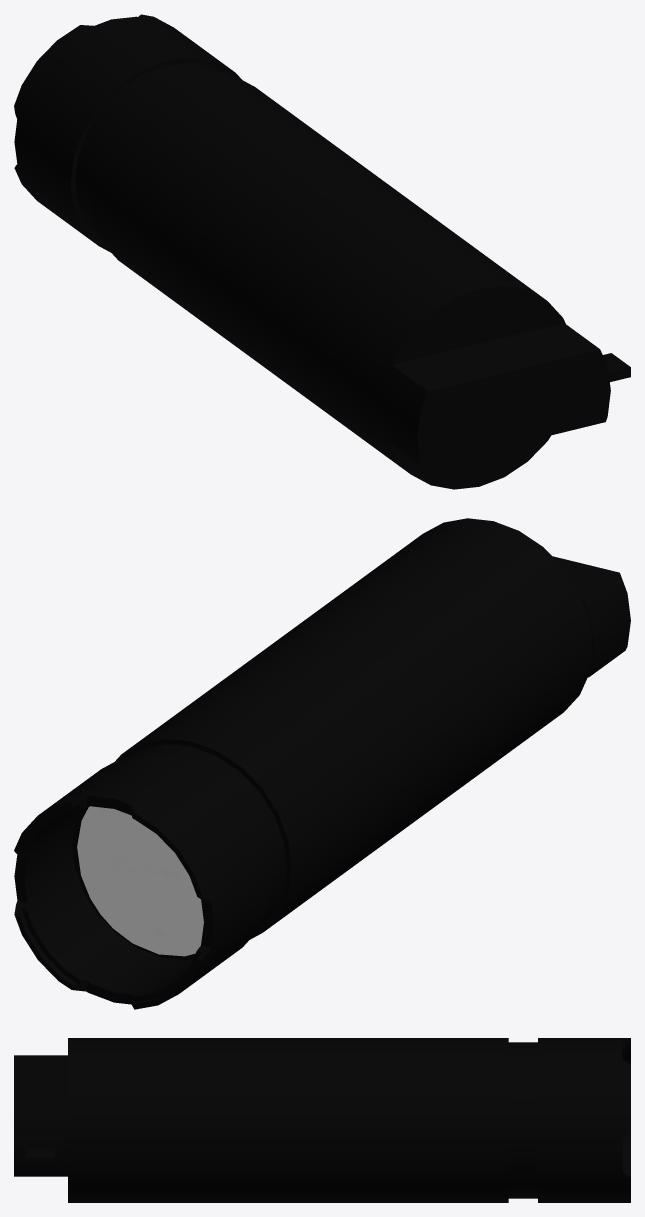
The model's file is Flashlight.obj.
3 renders of one model, top to bottom at view 1: azimuth 30°, elevation 25°; view 2: azimuth 150°, elevation 25°; view 3: azimuth 270°, elevation 25°, orthographic. The views are drawn at different scales.
Visible parts, largest first — view 1: Union1; view 2: Union1, Part1; view 3: Union1.
Boxes of the visible parts, left/top/right/bottom form: Union1: left=14, top=14, right=630, bottom=489; Union1: left=14, top=518, right=630, bottom=1009; Part1: left=77, top=806, right=203, bottom=956; Union1: left=14, top=1038, right=630, bottom=1202.
Bounding box in the file's own units: 1.23 × 1.05 × 3.94.
